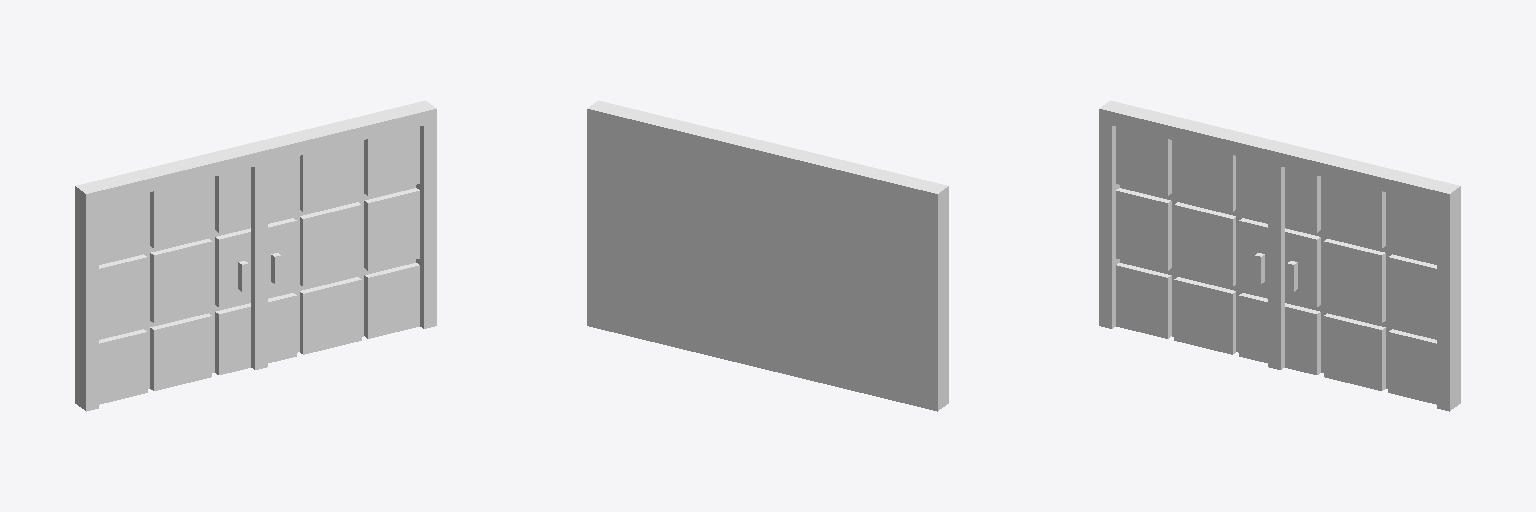
File: Porton.obj
3 renders of one model, left to right at view 1: azimuth 30°, elevation 25°; view 2: azimuth 150°, elevation 25°; view 3: azimuth 330°, elevation 25°, orthographic.
Visible parts, largest first — view 1: object 1; view 2: object 1; view 3: object 1.
Boxes of the visible parts, x1,y1,x2,y2 form: object 1: [75, 100, 436, 411]; object 1: [587, 100, 948, 411]; object 1: [1099, 100, 1460, 411].
Bounding box in the file's own units: 5.4 × 3.2 × 0.3.